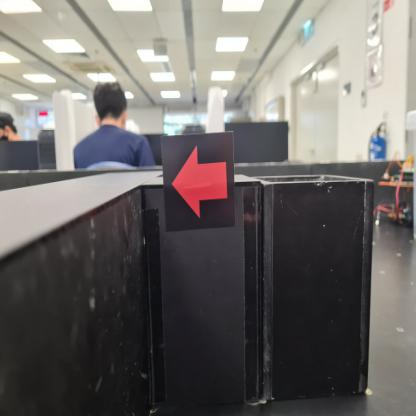left: (160, 131, 238, 232)
